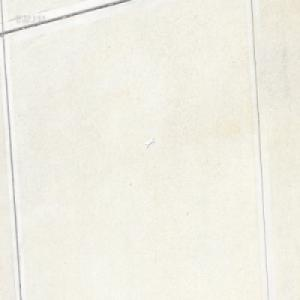Wrench: (145, 139, 154, 148)
